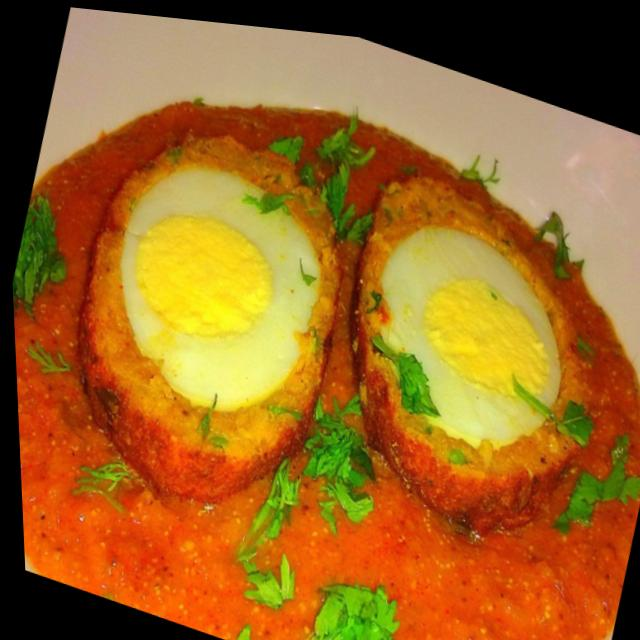EGG: (12, 7, 640, 640)
